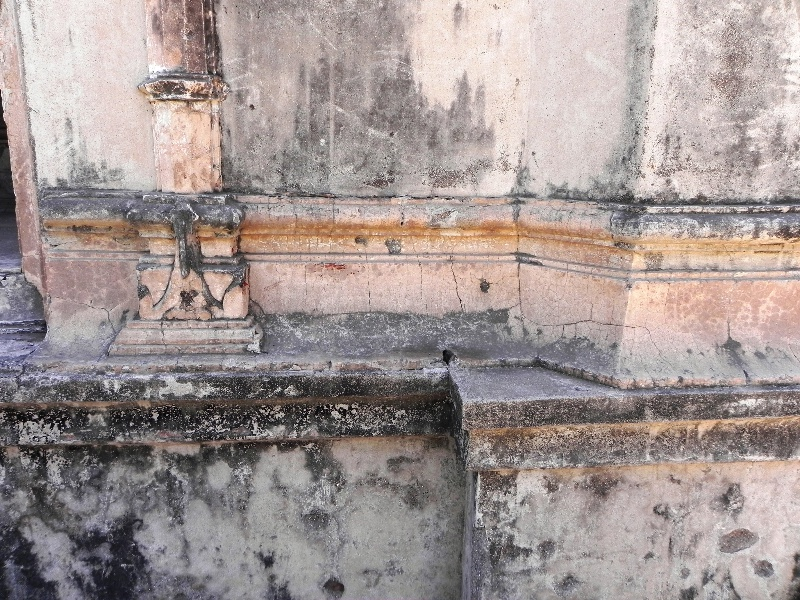Crack: (530, 318, 626, 332), (447, 260, 470, 315)
